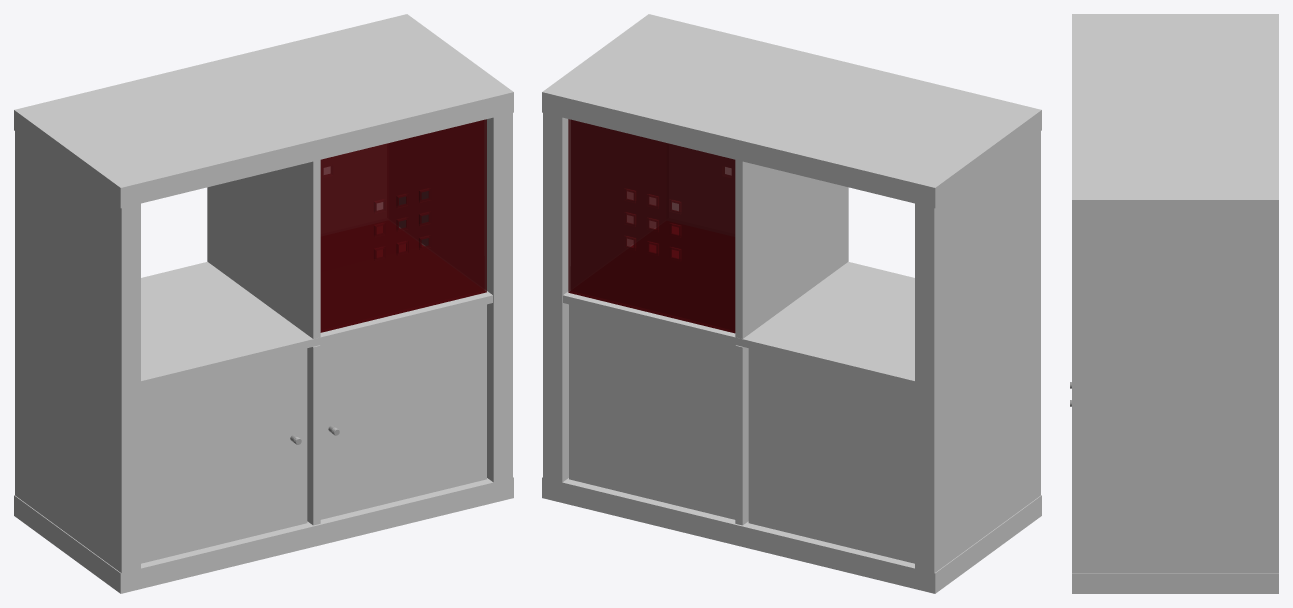
File: shelves.obj
3 renders of one model, left to right at view 1: azimuth 30°, elevation 25°; view 2: azimuth 150°, elevation 25°; view 3: azimuth 270°, elevation 25°, orthographic. The views are drawn at different scales.
Visible parts, largest first — view 1: Cube.009_Cube.010, Cube.010_Cube.011, Cube.020_Cube.021, Cube.017_Cube.016, Cube.018, Cube.012_Cube.013, Cube.013_Cube.014, Cube.008_Cube.009, Cube.011_Cube.012, Cube.014_Cube.015; view 2: Cube.009_Cube.010, Cube.010_Cube.011, Cube.020_Cube.021, Cube.017_Cube.016, Cube.018, Cube.012_Cube.013, Cube.013_Cube.014, Cube.008_Cube.009, Cube.011_Cube.012, Cube.014_Cube.015; view 3: Cube.011_Cube.012, Cube.009_Cube.010, Cube.008_Cube.009.
Boxes of the visible parts, x1,y1,x2,y2 form: Cube.009_Cube.010: [14, 14, 513, 208]; Cube.010_Cube.011: [15, 131, 140, 573]; Cube.020_Cube.021: [320, 304, 486, 519]; Cube.017_Cube.016: [141, 348, 307, 563]; Cube.018: [320, 119, 486, 332]; Cube.012_Cube.013: [141, 227, 492, 388]; Cube.013_Cube.014: [207, 160, 320, 338]; Cube.008_Cube.009: [14, 477, 513, 593]; Cube.011_Cube.012: [399, 111, 512, 482]; Cube.014_Cube.015: [307, 345, 320, 525]; Cube.009_Cube.010: [542, 14, 1041, 208]; Cube.010_Cube.011: [915, 131, 1040, 573]; Cube.020_Cube.021: [569, 304, 735, 519]; Cube.017_Cube.016: [748, 348, 914, 563]; Cube.018: [568, 119, 735, 333]; Cube.012_Cube.013: [563, 228, 914, 388]; Cube.013_Cube.014: [735, 160, 848, 338]; Cube.008_Cube.009: [542, 477, 1041, 593]; Cube.011_Cube.012: [543, 113, 655, 482]; Cube.014_Cube.015: [735, 345, 748, 525]; Cube.011_Cube.012: [1072, 220, 1278, 573]; Cube.009_Cube.010: [1072, 14, 1278, 219]; Cube.008_Cube.009: [1072, 573, 1278, 593].
Bounding box in the file's own units: 82.99 × 81.9 × 39.38.
